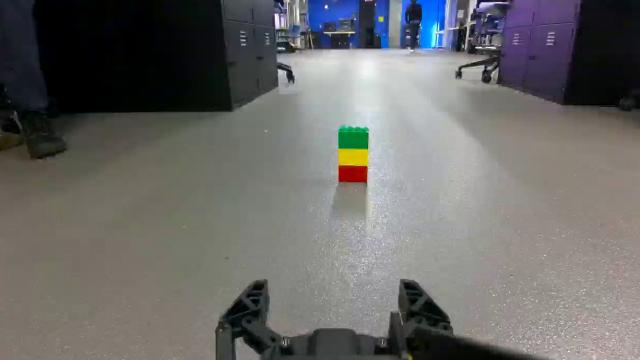lego: (340, 125, 370, 184)
